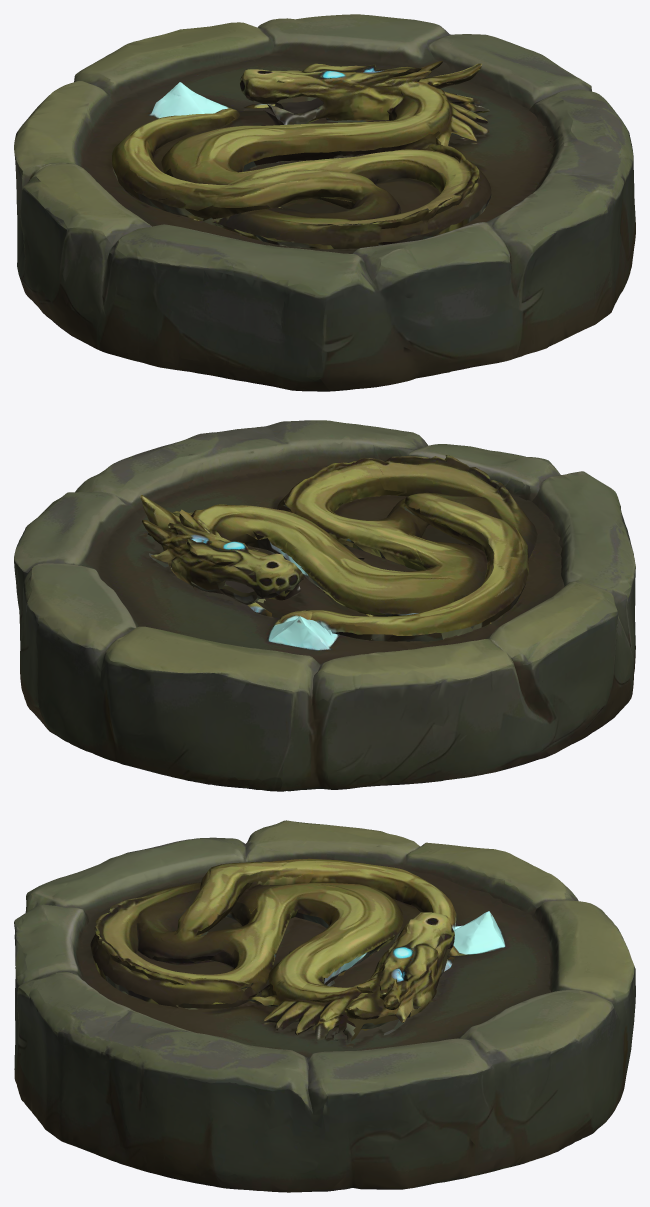
File: item_imprint_frost_wyrm.glb
3 renders of one model, top to bottom at view 1: azimuth 30°, elevation 25°; view 2: azimuth 150°, elevation 25°; view 3: azimuth 270°, elevation 25°, orthographic.
Visible parts, largest first — view 1: item_imprint_frost_wyrm; view 2: item_imprint_frost_wyrm; view 3: item_imprint_frost_wyrm.
Boxes of the visible parts, left/top/right/bottom form: item_imprint_frost_wyrm: left=14, top=14, right=635, bottom=391; item_imprint_frost_wyrm: left=14, top=420, right=635, bottom=791; item_imprint_frost_wyrm: left=14, top=820, right=635, bottom=1192.
Size of the model in its own units: 0.1 by 0.0255 by 0.0988.
1 material, 1 textured.
